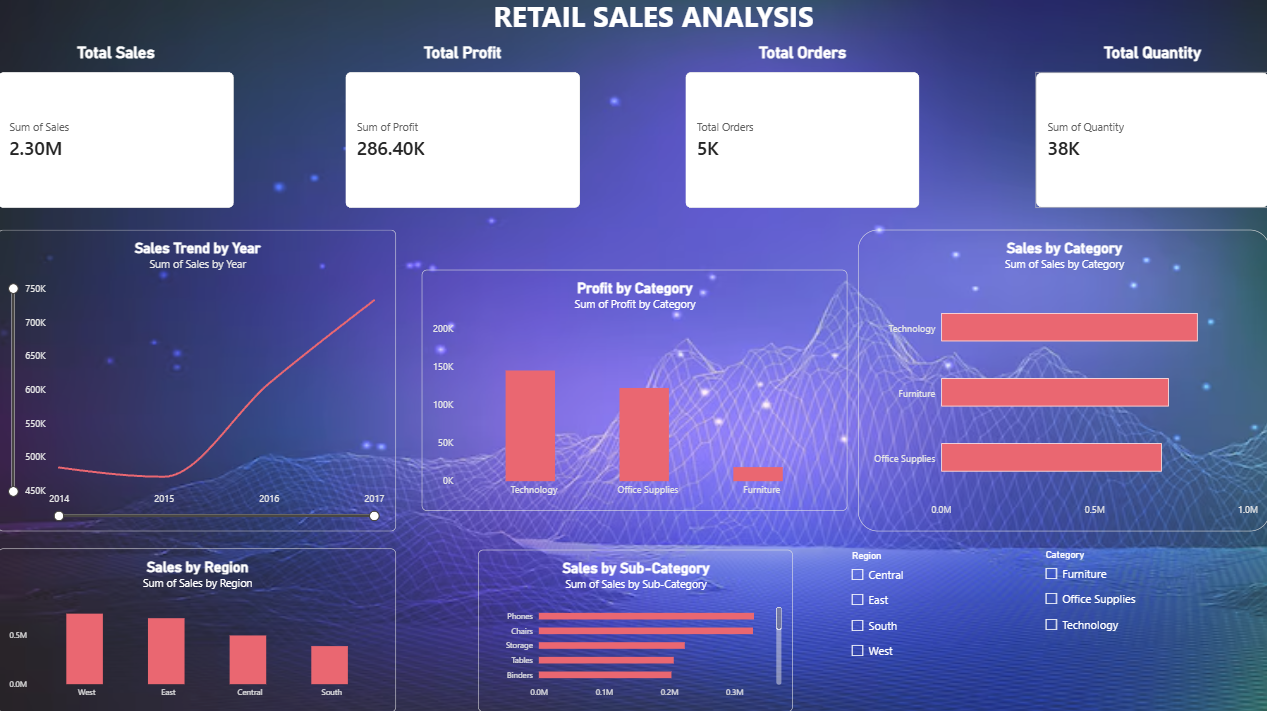

The page's visual inventory and layout, read from the dashboard file:
{"tool":"powerbi","page":{"name":"Page 1","canvas":[1920,1080],"ordinal":0},"visuals":[{"type":"cardVisual","title":"Total Sales","fields":{"Data":["Sum(FactSales.Sales)"]},"box":[0,72,356.1,249.1],"z":0},{"type":"cardVisual","title":"Total Profit","fields":{"Data":["Sum(FactSales.Profit)"]},"box":[525,71.4,354,249.1],"z":1000},{"type":"cardVisual","title":"Total Orders","fields":{"Data":["DimCustomers.Total Orders"]},"box":[1037.5,71.4,353.6,248.2],"z":2000},{"type":"cardVisual","title":"Total Quantity","fields":{"Data":["Sum(FactSales.Quantity)"]},"box":[1566.1,71.4,353.6,248.2],"z":3000},{"type":"lineChart","title":"Sales Trend by Year","fields":{"Category":["DimDate.Date.Variation.Date Hierarchy.Year","DimDate.Date.Variation.Date Hierarchy.Quarter","DimDate.Date.Variation.Date Hierarchy.Month","DimDate.Date.Variation.Date Hierarchy.Day"],"Y":["Sum(FactSales.Sales)"]},"box":[0,352,601,454.9],"z":4000},{"type":"clusteredBarChart","title":"Sales by Category","fields":{"Category":["FactSales.Category"],"Y":["Sum(FactSales.Sales)"]},"box":[1298.1,352.4,621.6,454.9],"z":5000},{"type":"clusteredColumnChart","title":"Sales by Region","fields":{"Category":["FactSales.Region"],"Y":["Sum(FactSales.Sales)"]},"box":[0,833.6,601,247],"z":6000},{"type":"clusteredBarChart","title":"Sales by Sub-Category","fields":{"Category":["FactSales.Sub-Category"],"Y":["Sum(FactSales.Sales)"]},"box":[725,835.7,475.5,244.9],"z":7000},{"type":"slicer","fields":{"Values":["FactSales.Category"]},"box":[1573.2,833.9,321.1,247],"z":8000},{"type":"textbox","box":[578,381,278,426],"z":9000},{"type":"textbox","box":[0,0,1920.4,72],"z":10000},{"type":"slicer","fields":{"Values":["FactSales.Region"]},"box":[1281.7,836.6,286,244],"z":11000},{"type":"clusteredColumnChart","title":"Profit by Category","fields":{"Category":["FactSales.Category"],"Y":["Sum(FactSales.Profit)"]},"box":[639.3,412.5,642.2,364.3],"z":11001}]}

Visuals, with their boxes in screenshot pixels (x1, y1, x2, y2), scaled from the page's 1920x1080 canvas onto the 1267x711 screenshot:
"Total Sales" cardVisual: detection(0, 47, 235, 211)
"Total Profit" cardVisual: detection(346, 47, 580, 211)
"Total Orders" cardVisual: detection(685, 47, 918, 210)
"Total Quantity" cardVisual: detection(1033, 47, 1266, 210)
"Sales Trend by Year" lineChart: detection(0, 232, 397, 531)
"Sales by Category" clusteredBarChart: detection(857, 232, 1266, 531)
"Sales by Region" clusteredColumnChart: detection(0, 549, 397, 710)
"Sales by Sub-Category" clusteredBarChart: detection(478, 550, 792, 710)
slicer - FactSales.Category: detection(1038, 549, 1250, 710)
textbox: detection(381, 251, 565, 531)
textbox: detection(0, 0, 1266, 47)
slicer - FactSales.Region: detection(846, 551, 1035, 710)
"Profit by Category" clusteredColumnChart: detection(422, 272, 846, 511)
